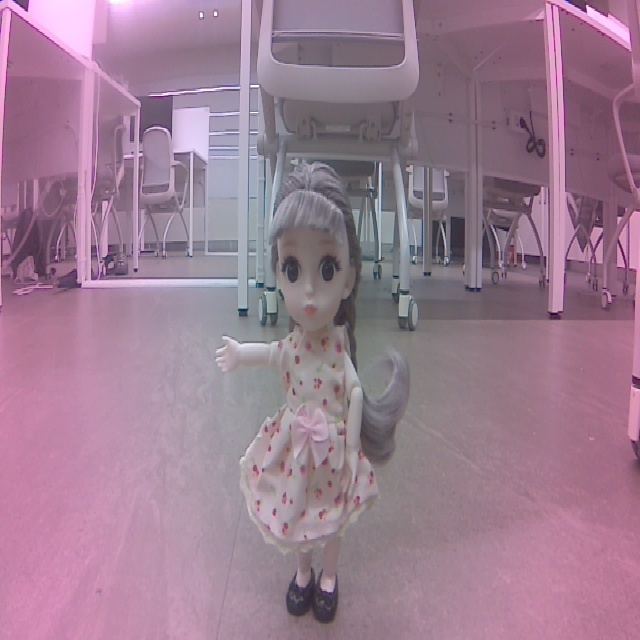장애물: (197, 153, 415, 632)
